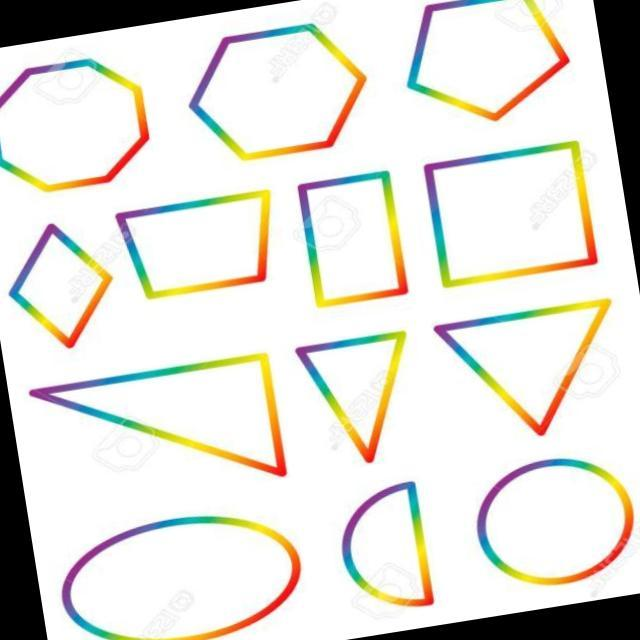circle: (467, 442, 640, 603)
square: (414, 136, 616, 291)
triangle: (420, 300, 633, 446), (278, 328, 428, 470)
